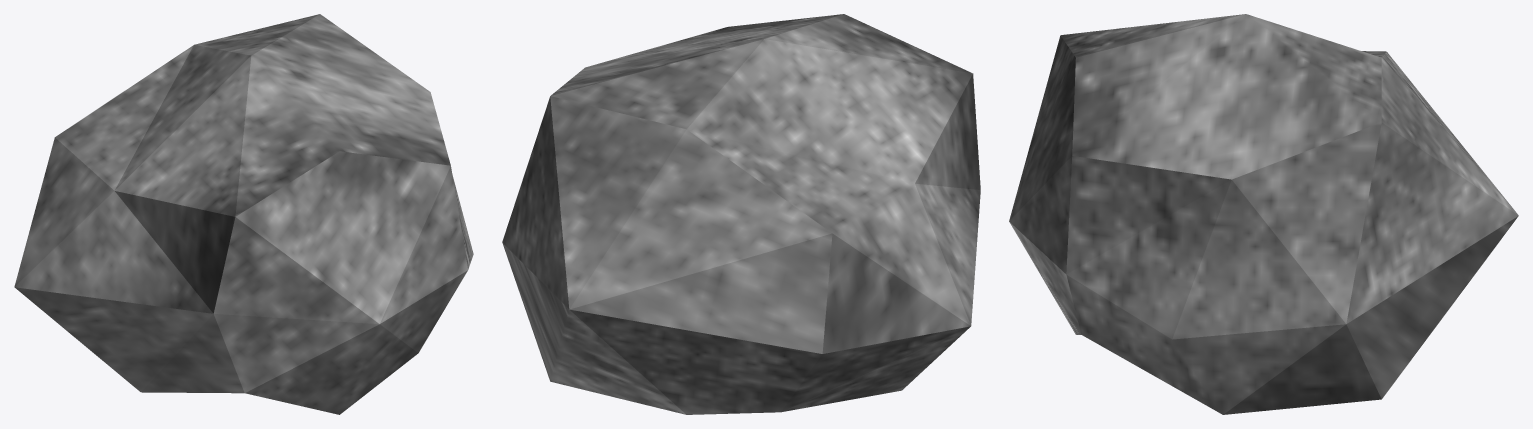
The model's file is rock.obj.
3 views of the same model, side by side, from view 1: azimuth 30°, elevation 25°; view 2: azimuth 150°, elevation 25°; view 3: azimuth 270°, elevation 25° (orthographic). The views are drawn at different scales.
Visible parts, largest first — view 1: Cube; view 2: Cube; view 3: Cube.
Part boxes in pixels (box(x1,y1,x2,y2)): Cube: box(14, 14, 473, 414); Cube: box(502, 14, 980, 414); Cube: box(1009, 14, 1518, 414).
Bounding box in the file's own units: 3.24 × 2.29 × 3.33.
1 material, 1 textured.
